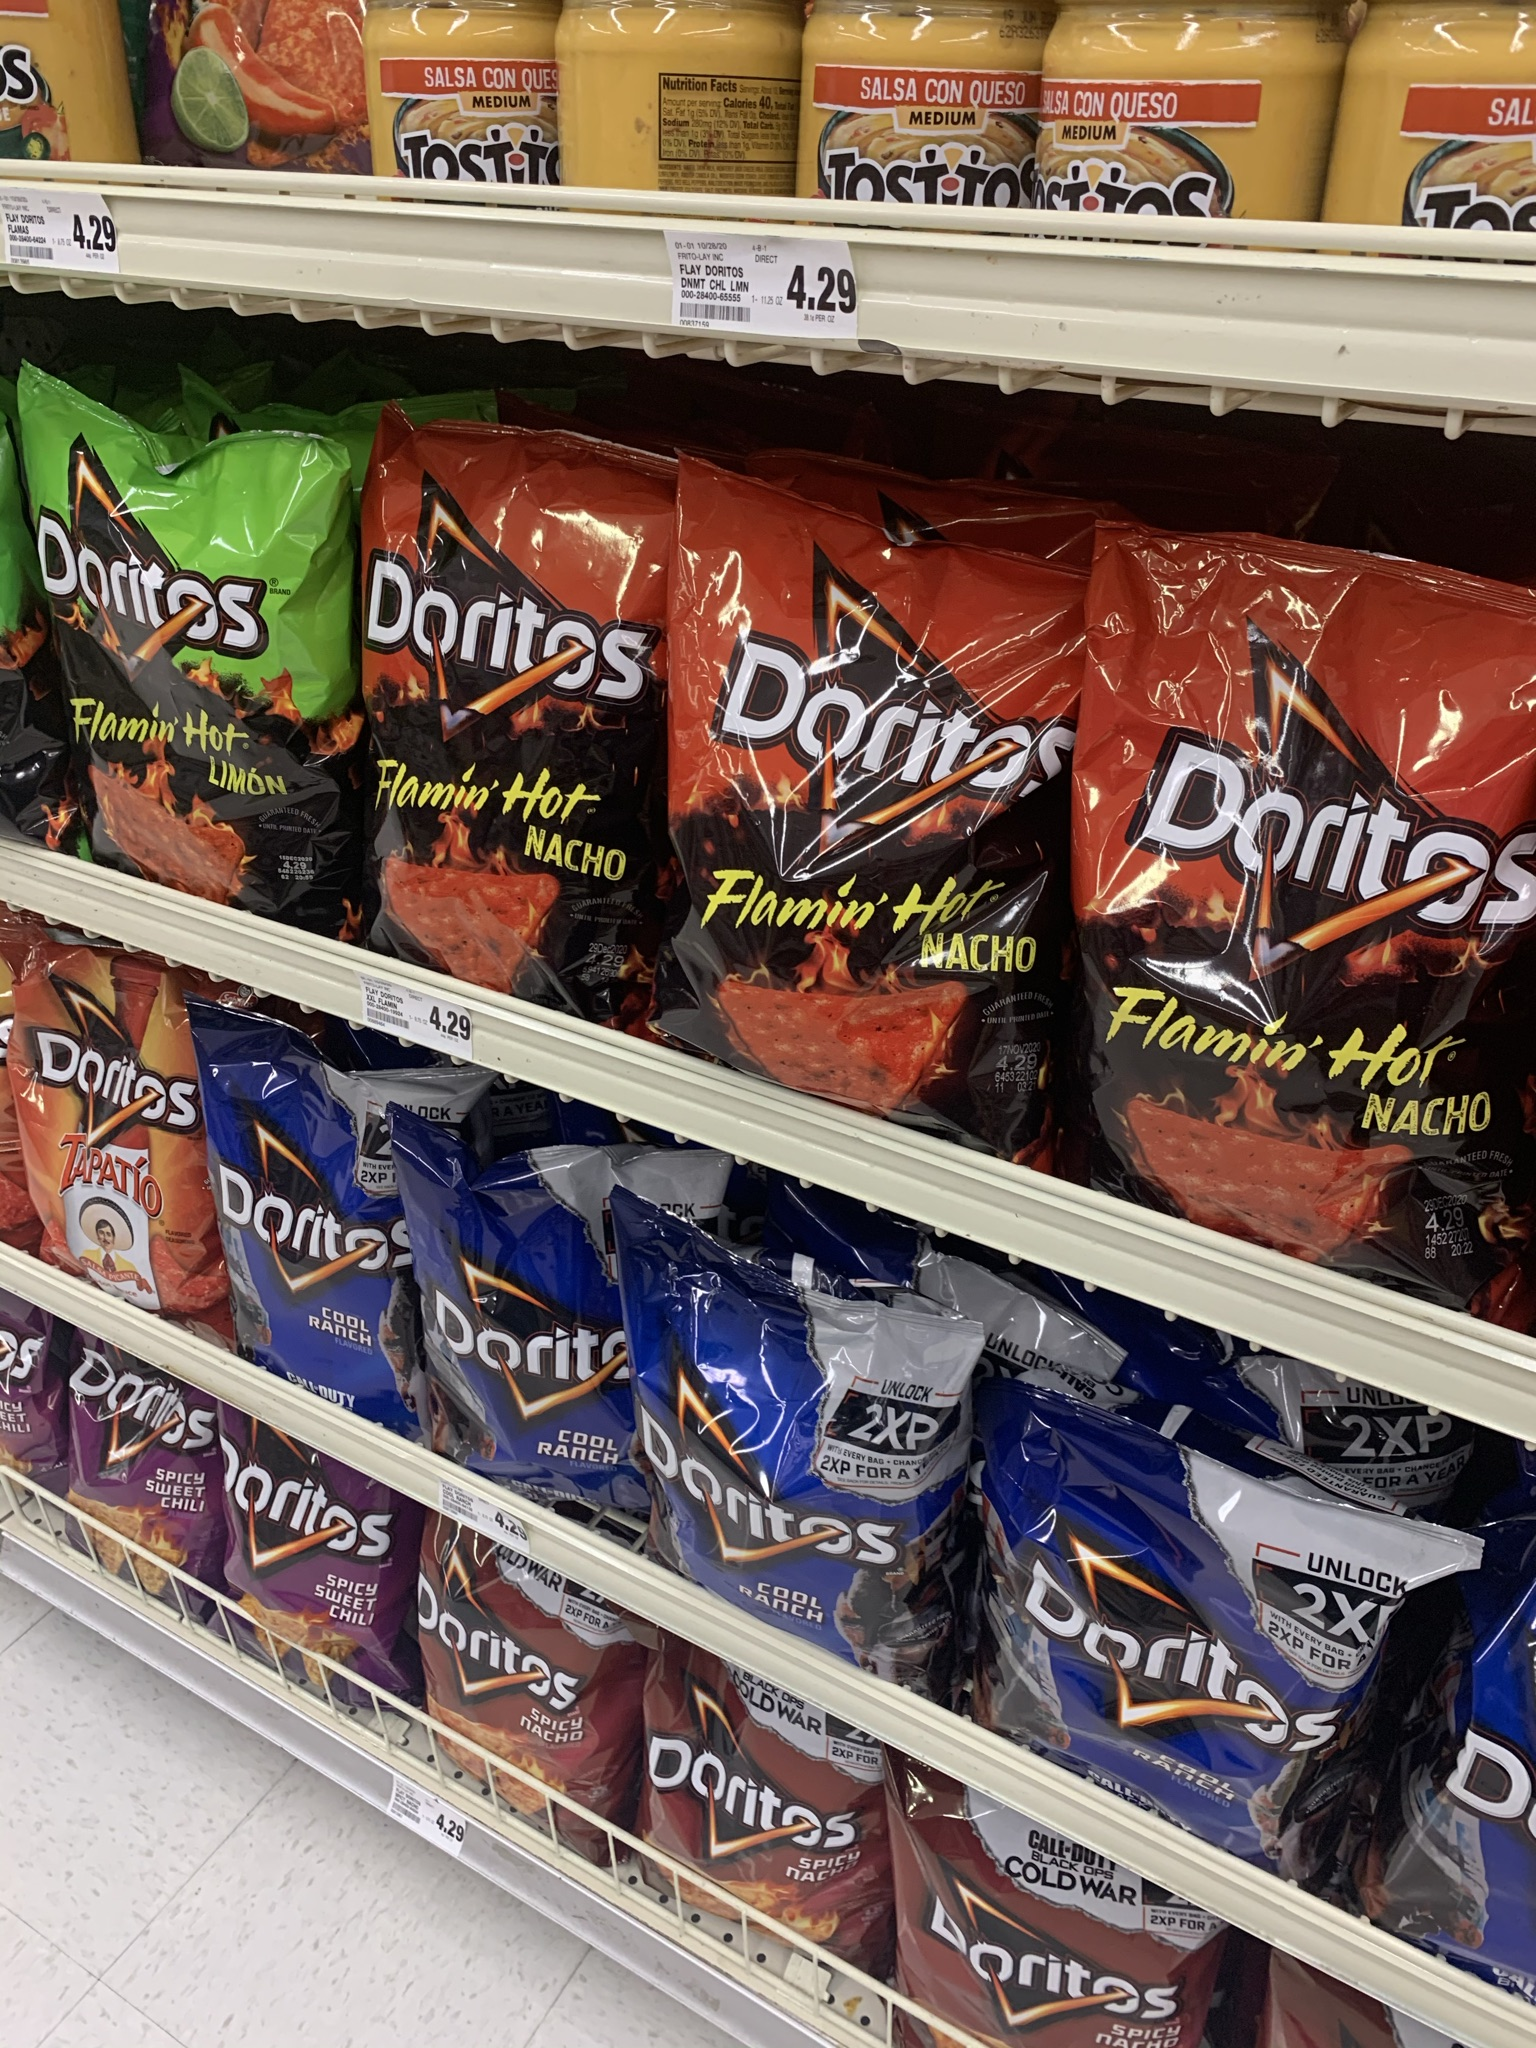doritos chips: (1125, 531, 1521, 1288), (684, 469, 1021, 1121), (378, 410, 652, 997), (1004, 1419, 1367, 1861), (29, 402, 339, 914), (657, 1230, 913, 1650), (210, 1026, 419, 1421), (908, 1801, 1199, 2048), (23, 947, 197, 1326), (429, 1159, 628, 1474), (457, 1569, 649, 1825), (244, 1464, 432, 1709), (68, 1364, 219, 1601), (679, 1701, 852, 1909)
